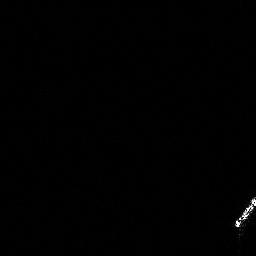ship: (234, 196, 256, 241)
